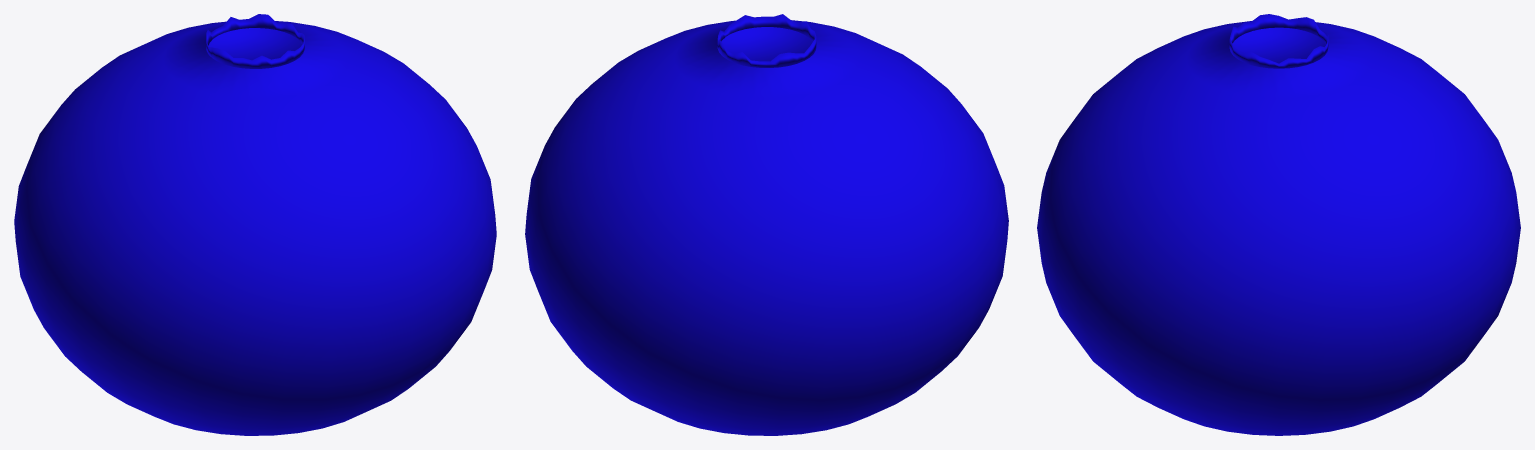
File: Blueberry.fbx
The picture shows the model from 3 angles, left to right: view 1: azimuth 30°, elevation 25°; view 2: azimuth 150°, elevation 25°; view 3: azimuth 270°, elevation 25°; orthographic projection.
Visible parts, largest first — view 1: Sphere; view 2: Sphere; view 3: Sphere.
Part boxes in pixels (x1=…): Sphere: x1=14, y1=14, x2=496, y2=435; Sphere: x1=525, y1=14, x2=1008, y2=435; Sphere: x1=1037, y1=14, x2=1520, y2=435.
Size of the model in its own units: 200 by 171 by 200.
